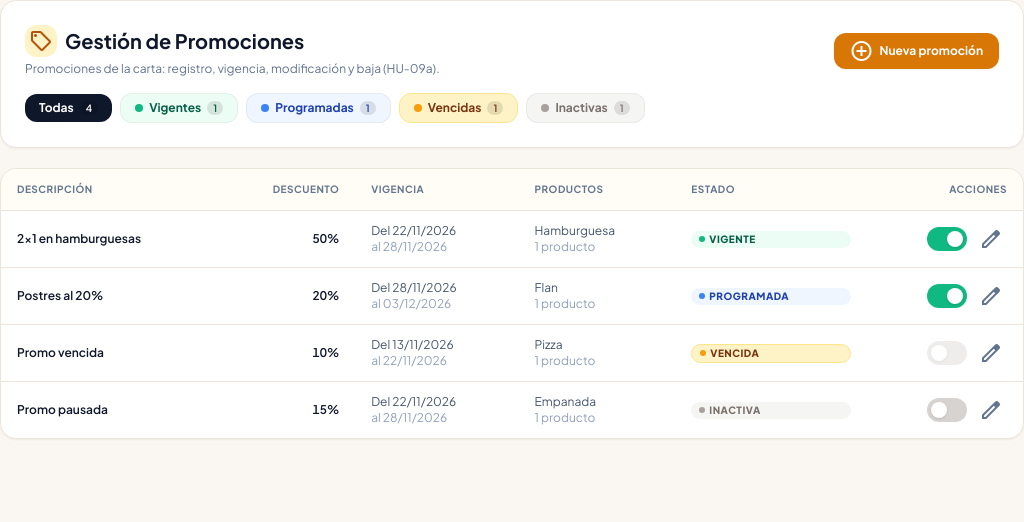
Test: PromocionesPage › activa y desactiva una promoción (CA5)
Click the switch named "2x1 en hamburguesas activa". click: (947, 239)
box: [927,227,967,251]
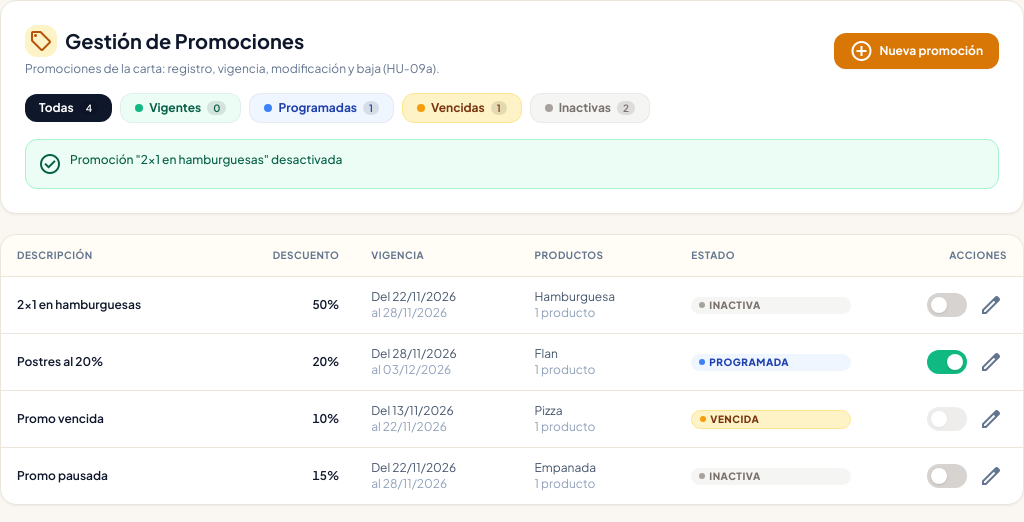
Check: the text "Promoción \"2x1 en hamburguesas\" desactivada" is shown, box [70,152,342,167]
